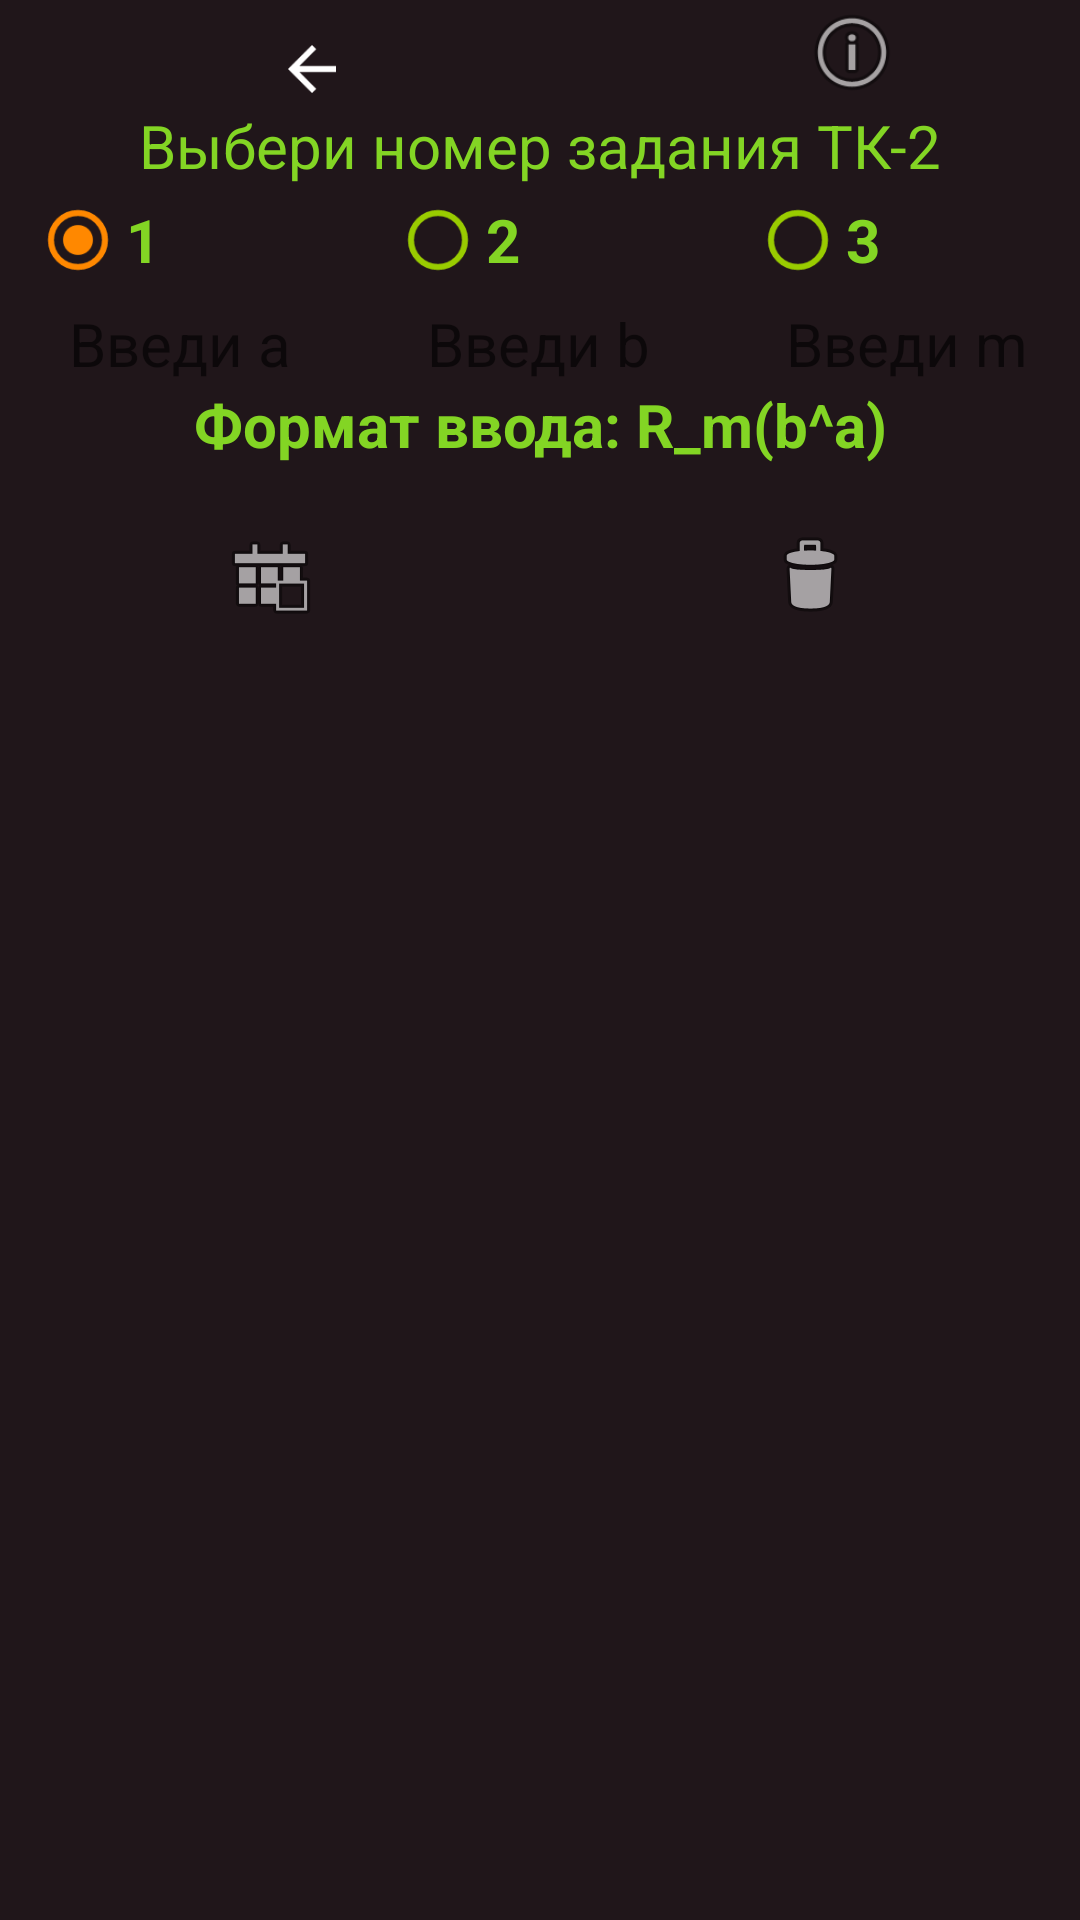

Where to tap for icons on this 1080px x 1920px app screen, as [x,y]:
info details: [852,52]
